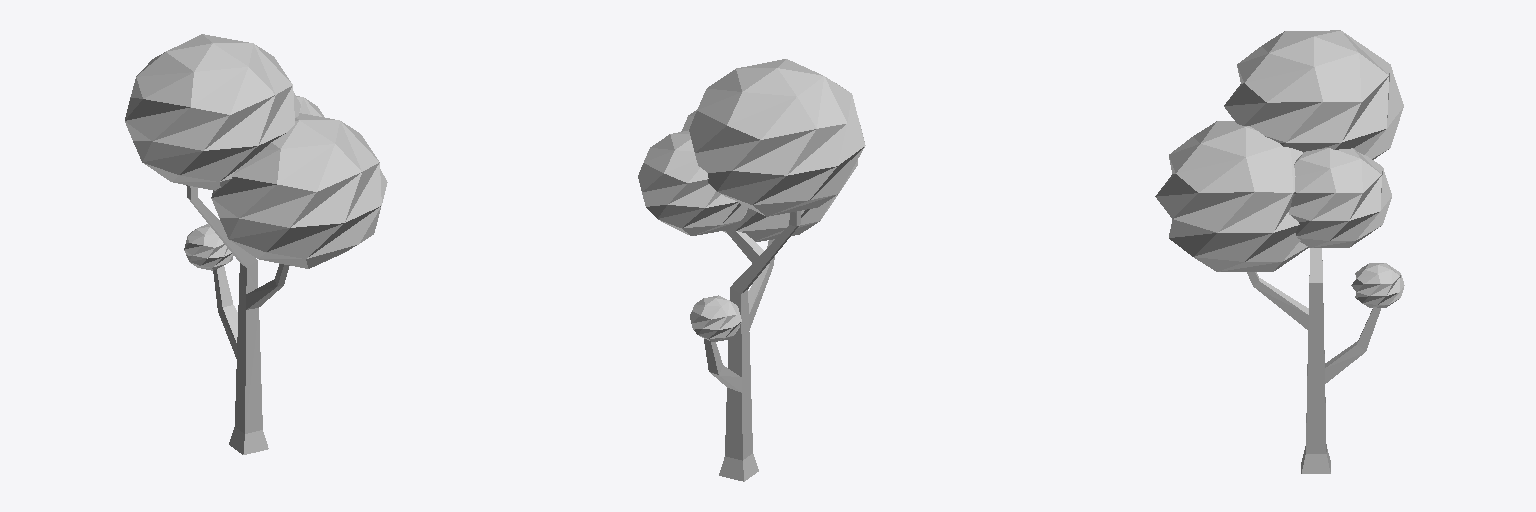
The model's file is tree.obj.
3 renders of one model, left to right at view 1: azimuth 30°, elevation 25°; view 2: azimuth 150°, elevation 25°; view 3: azimuth 270°, elevation 25°, orthographic.
Parts seen in each view (by area): view 1: Cube_Cube.001; view 2: Cube_Cube.001; view 3: Cube_Cube.001.
Part boxes in pixels (x1,y1,x2,y2): Cube_Cube.001: (125, 34, 387, 454); Cube_Cube.001: (638, 59, 865, 481); Cube_Cube.001: (1155, 30, 1404, 473).
Bounding box in the file's own units: 2.59 × 5.1 × 2.79.